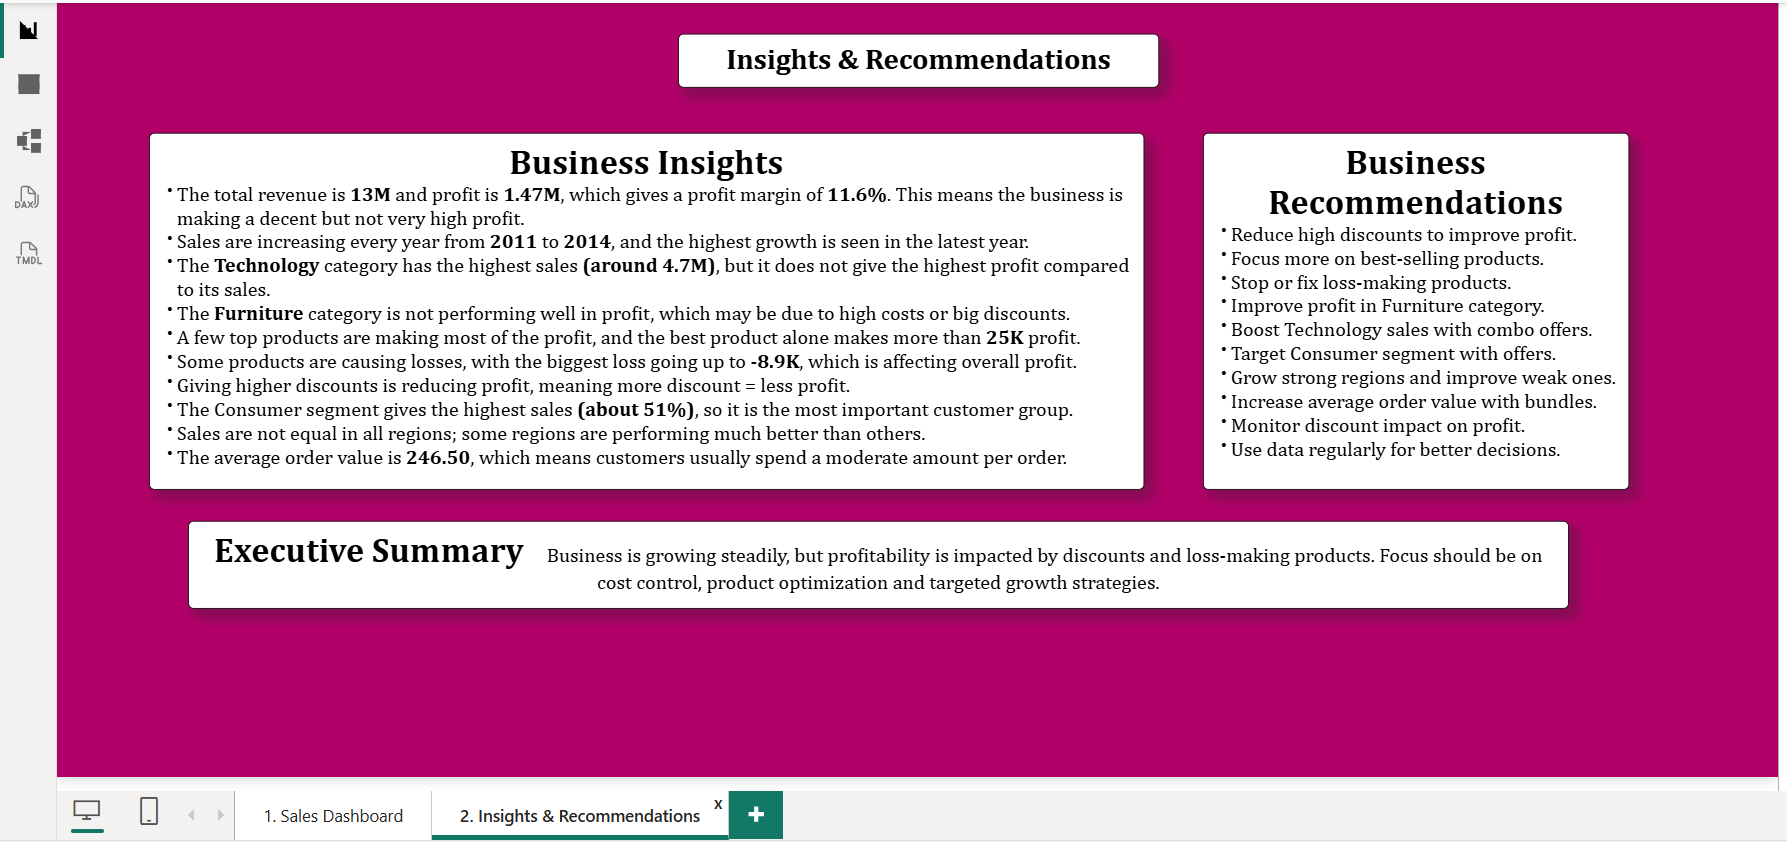

Layout of this report page (visuals, bound fields, positions):
{"tool":"powerbi","page":{"name":"2. Insights & Recommendations","canvas":[1600,720],"ordinal":1},"visuals":[{"type":"textbox","box":[576.8,28,447.3,50],"z":0},{"type":"textbox","box":[85,120.7,924.6,331.4],"z":1000},{"type":"textbox","box":[1065.7,120.7,396,331.4],"z":2000},{"type":"textbox","box":[122.4,481,1283.2,81.6],"z":3000}]}

Visuals, with their boxes on the page's 1600x720 design canvas (x1, y1, x2, y2). These are canvas units, not pixel positions in the 1787x842 screenshot, which may show the page scaled, cropped or inside an application window:
textbox: [x1=577, y1=28, x2=1024, y2=78]
textbox: [x1=85, y1=121, x2=1010, y2=452]
textbox: [x1=1066, y1=121, x2=1462, y2=452]
textbox: [x1=122, y1=481, x2=1406, y2=563]
